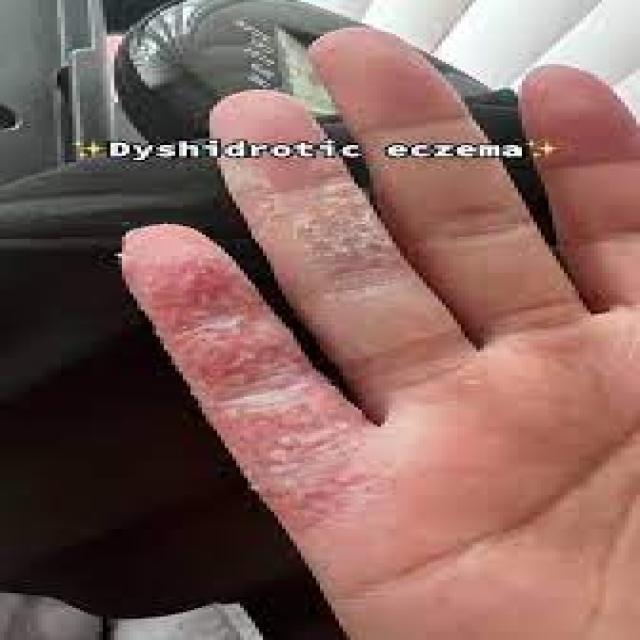Eczema: (149, 242, 358, 526), (256, 148, 408, 280)
